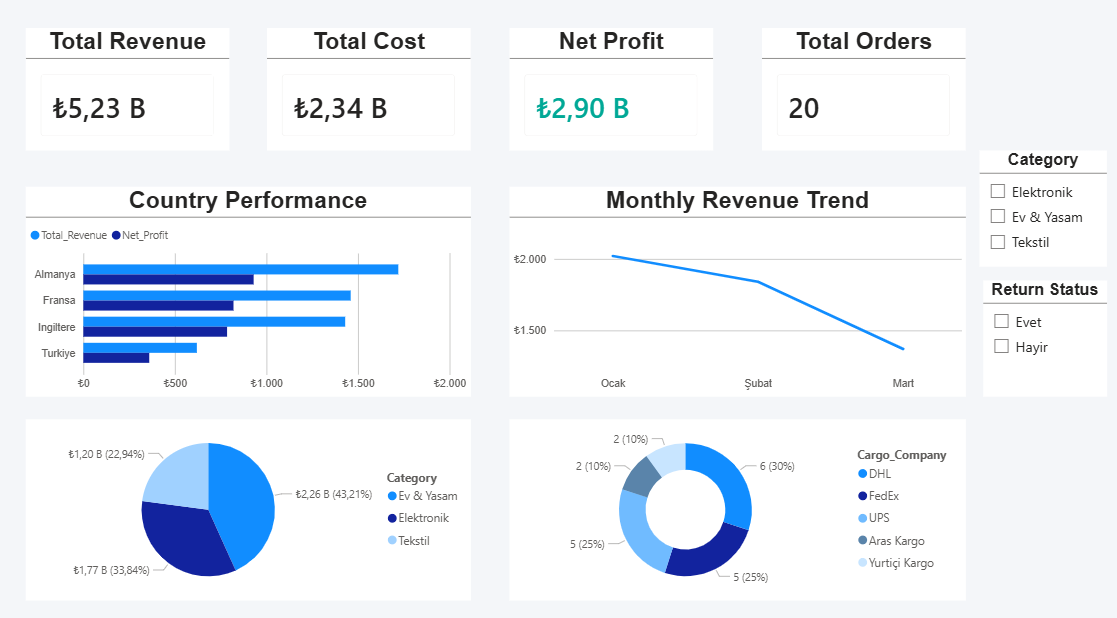

What the dashboard file says about the page in this screenshot:
{"tool":"powerbi","page":{"name":"Executive Summary","canvas":[1280,720],"ordinal":0},"visuals":[{"type":"cardVisual","title":"Total Revenue","fields":{"Data":["Fact_Sales.Total_Revenue"]},"box":[32.3,34.9,232.9,140],"z":0},{"type":"cardVisual","title":"Total Cost","fields":{"Data":["Fact_Sales.Total_Cost"]},"box":[308,34.9,232.9,140],"z":1},{"type":"cardVisual","title":"Net Profit","fields":{"Data":["Fact_Sales.Net_Profit"]},"box":[585.1,34.9,232.9,140],"z":2},{"type":"cardVisual","title":"Total Orders","fields":{"Data":["Fact_Sales.Total_Orders"]},"box":[873.7,34.9,232.9,140],"z":3},{"type":"lineChart","title":"Monthly Revenue Trend","fields":{"Category":["Dim_Calendar.Month_Name"],"Y":["Fact_Sales.Total_Revenue"]},"box":[585.7,215.7,521.4,240],"z":4},{"type":"clusteredBarChart","title":"Country Performance","fields":{"Category":["Dim_Customers.Country"],"Y":["Fact_Sales.Total_Revenue","Fact_Sales.Net_Profit"]},"box":[32.9,215.7,508.6,240],"z":5},{"type":"pieChart","fields":{"Y":["Fact_Sales.Total_Revenue"],"Category":["Dim_Products.Category"]},"box":[32.9,481.4,508.6,207.1],"z":6},{"type":"donutChart","fields":{"Y":["Fact_Sales.Total_Orders"],"Category":["Fact_Sales.Cargo_Company"]},"box":[585.7,481.4,521.4,207.1],"z":7},{"type":"slicer","title":"Return Status","fields":{"Values":["Fact_Sales.Return_Status"]},"box":[1127.1,322.9,141.4,132.9],"z":8},{"type":"slicer","title":"Category","fields":{"Values":["Dim_Products.Category"]},"box":[1122.9,174.3,145.7,132.9],"z":9}]}

Visuals, with their boxes in screenshot pixels (x1, y1, x2, y2), scaled from the page's 1280x720 canvas onto the 1117x618 screenshot:
"Total Revenue" cardVisual: 28, 30, 231, 150
"Total Cost" cardVisual: 269, 30, 472, 150
"Net Profit" cardVisual: 511, 30, 714, 150
"Total Orders" cardVisual: 762, 30, 966, 150
"Monthly Revenue Trend" lineChart: 511, 185, 966, 391
"Country Performance" clusteredBarChart: 29, 185, 473, 391
pieChart - Fact_Sales.Total_Revenue x Dim_Products.Category: 29, 413, 473, 591
donutChart - Fact_Sales.Total_Orders x Fact_Sales.Cargo_Company: 511, 413, 966, 591
"Return Status" slicer: 984, 277, 1107, 391
"Category" slicer: 980, 150, 1107, 264
